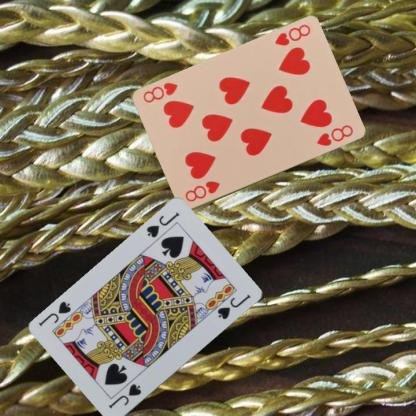8h: (272, 22, 312, 48), (182, 178, 221, 204)
Js: (144, 209, 181, 239), (106, 381, 142, 410)
